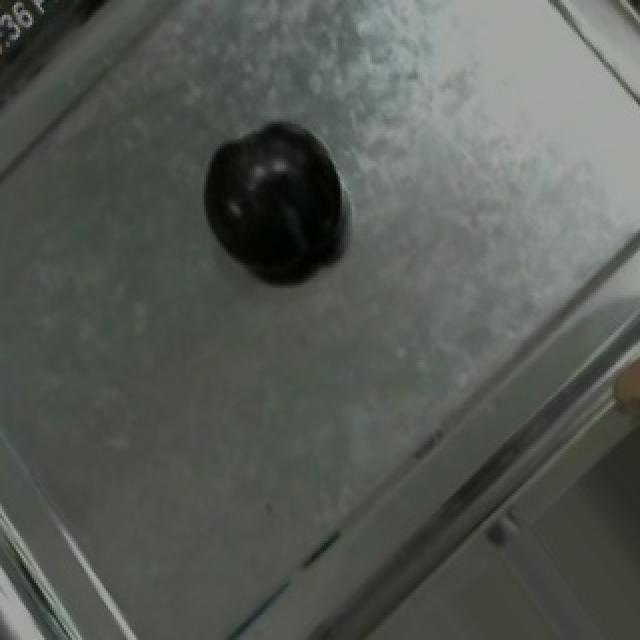Fruit: (184, 104, 364, 295)
